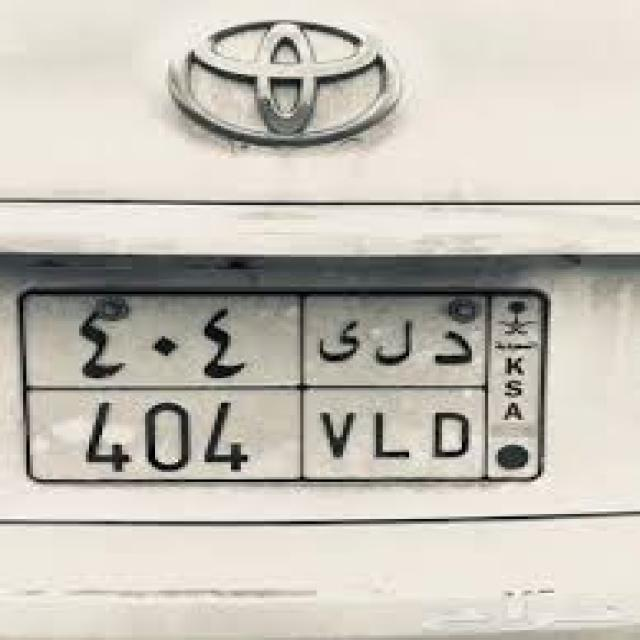license_plate: (13, 284, 554, 487)
